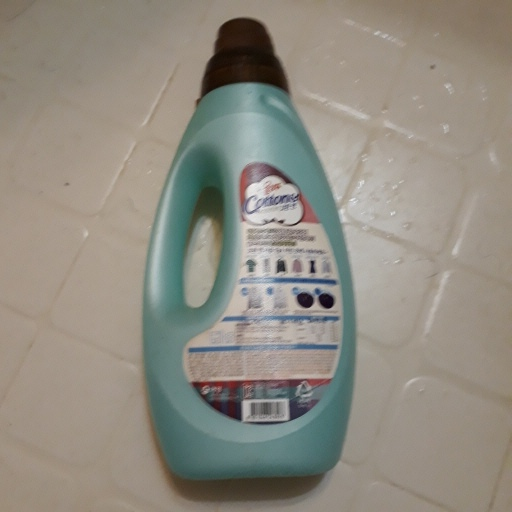Plastic_1: (141, 12, 359, 484)
